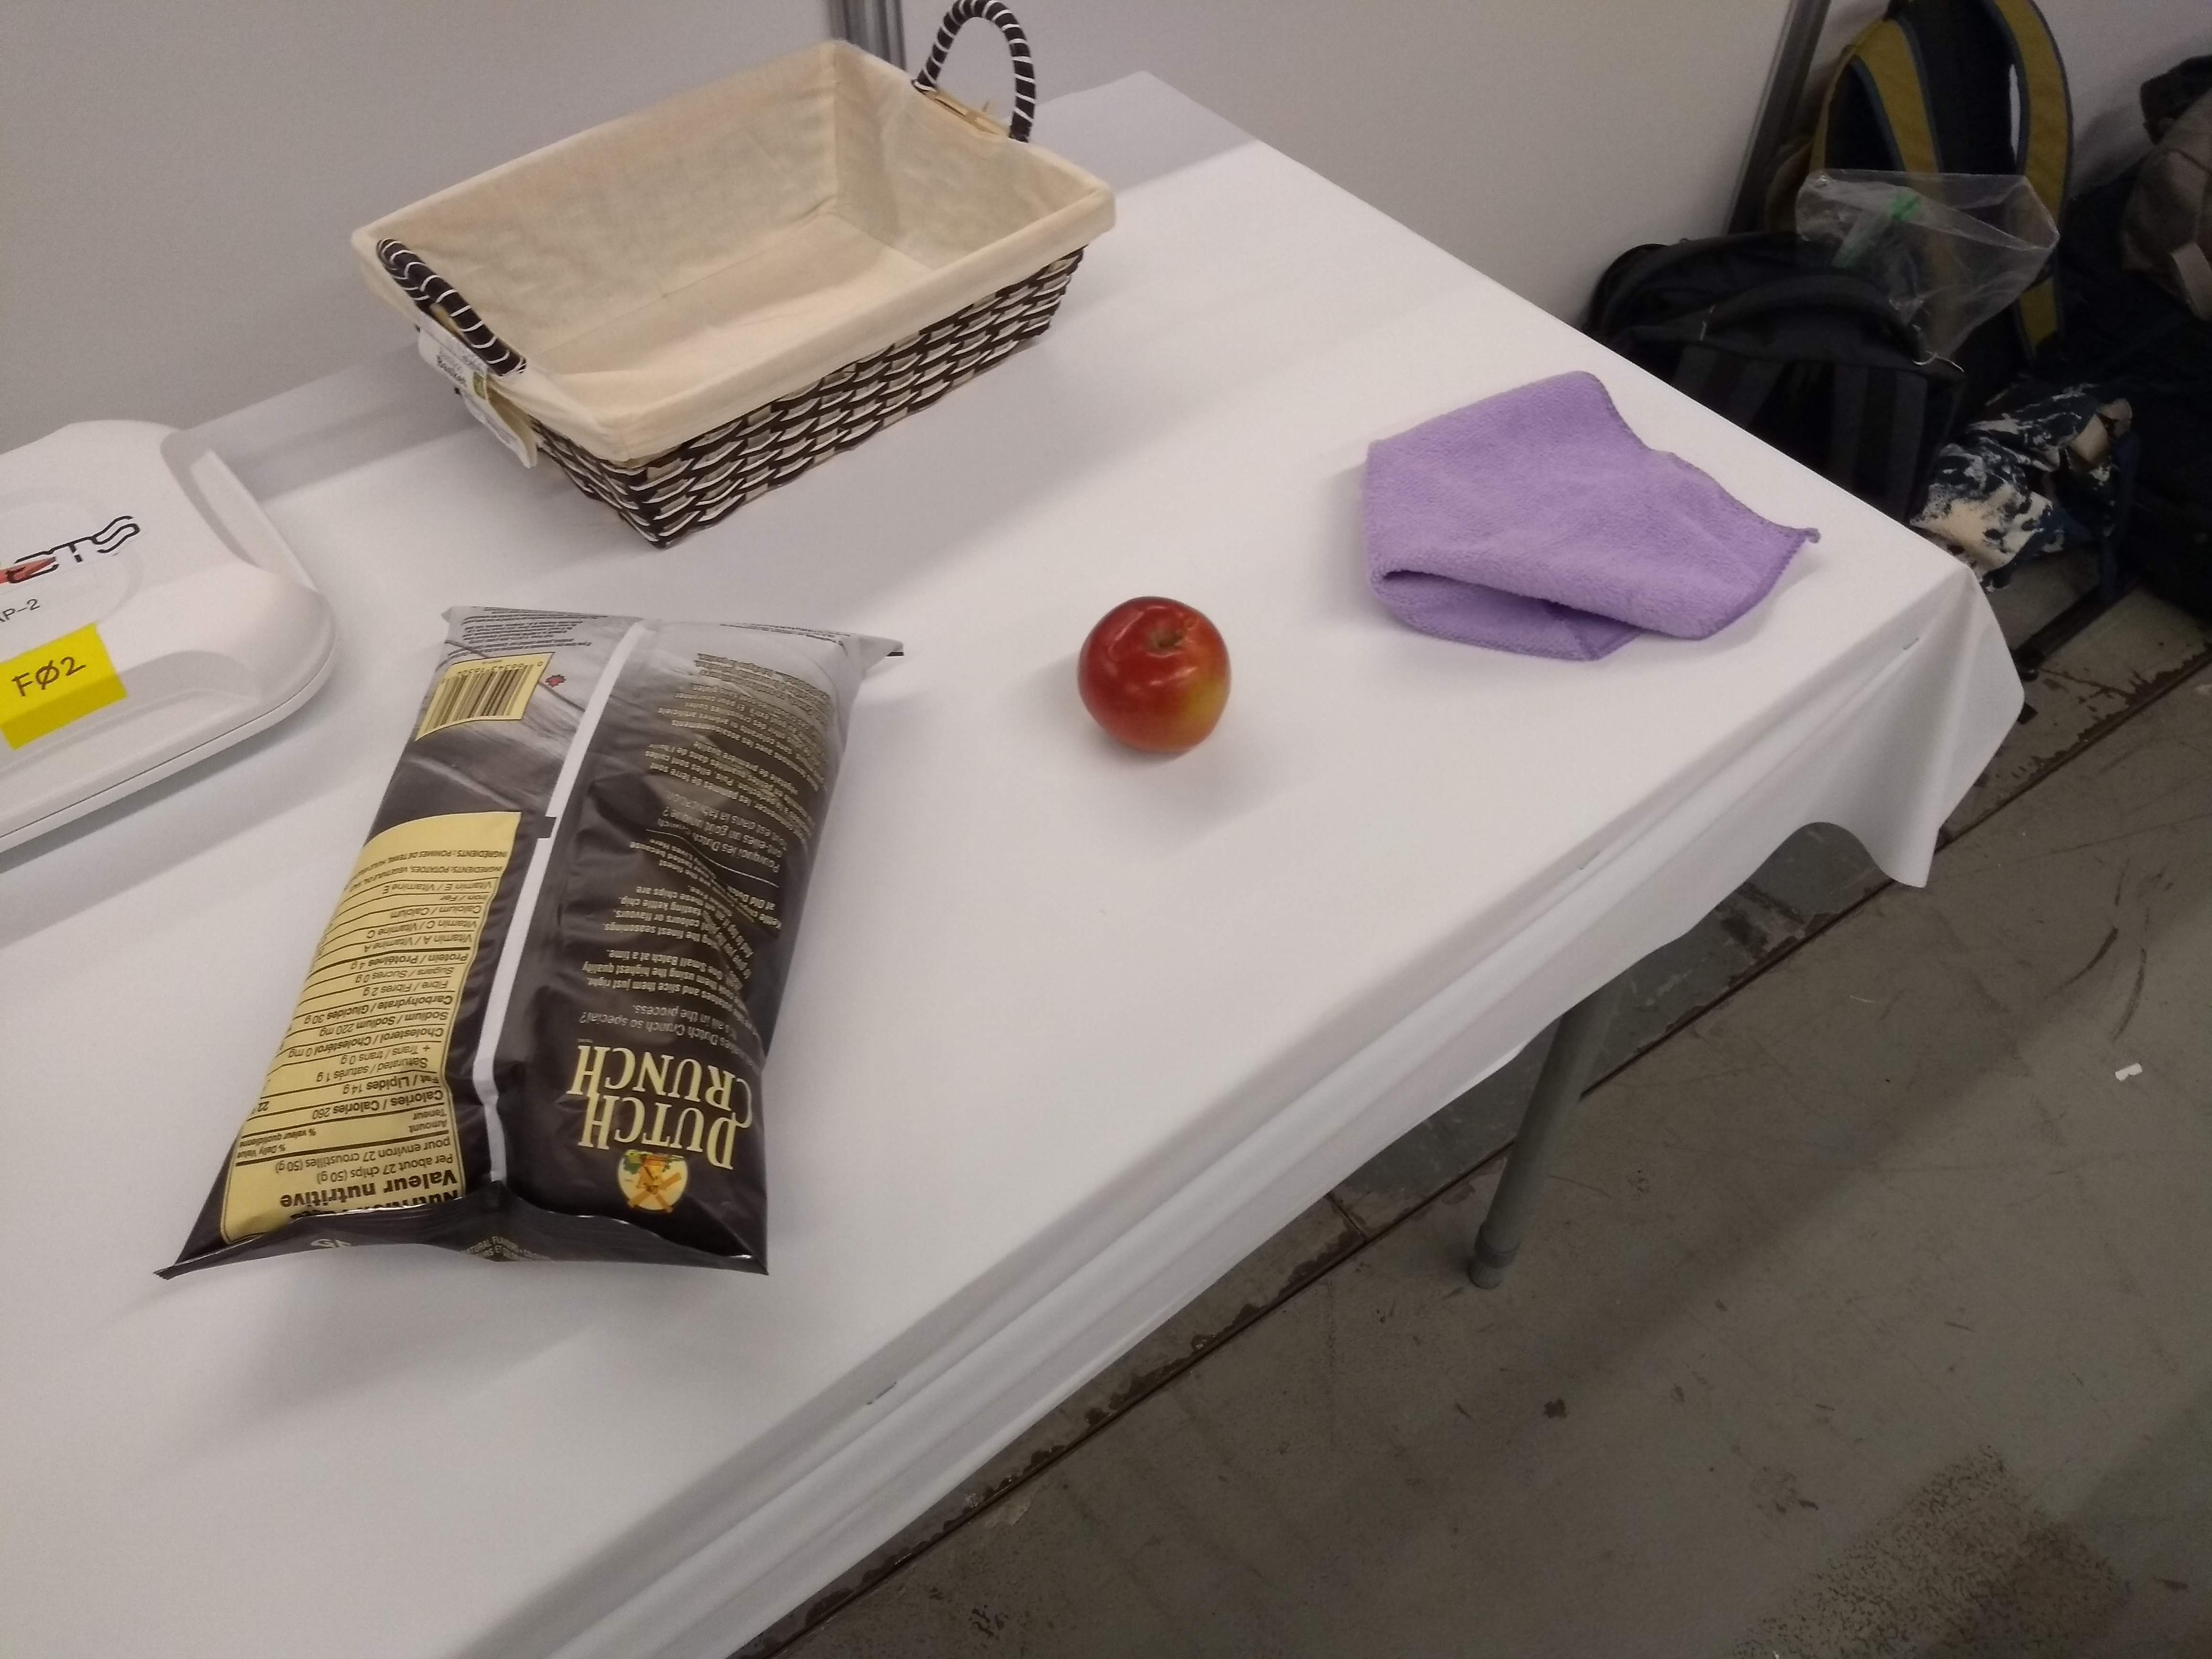apple: (1069, 584, 1242, 767)
basket: (338, 0, 1120, 561)
cloth_opl: (1348, 364, 1829, 659)
potato_chips: (141, 592, 916, 1321)
